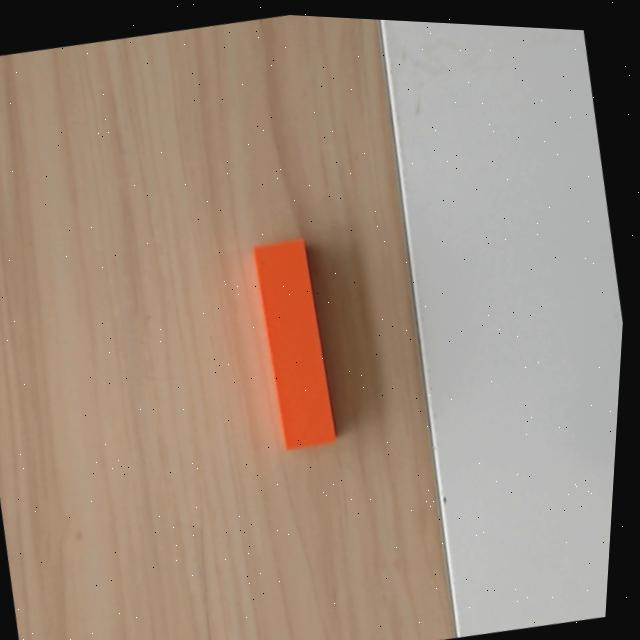Balok-Jingga-1002525: (251, 238, 338, 451)
